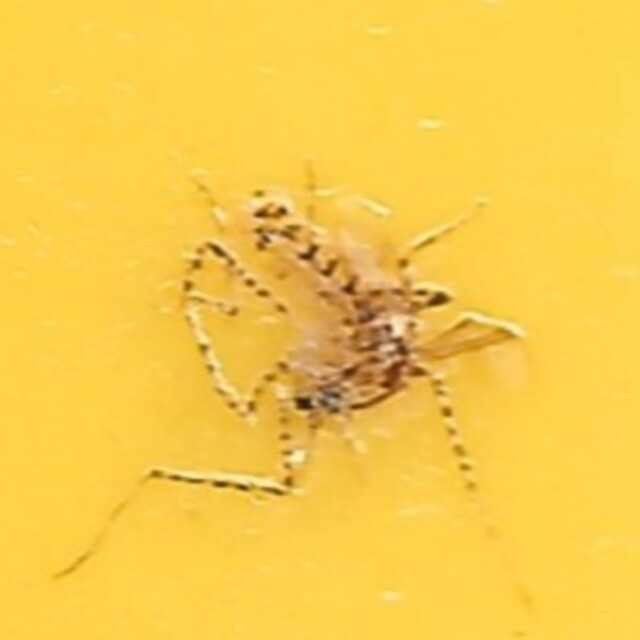Nematocera: (237, 206, 403, 434)
